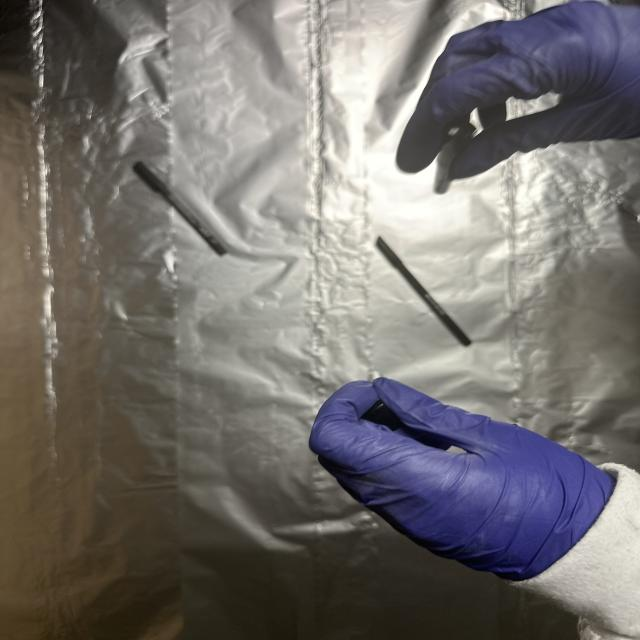gloves_contaminated: (310, 378, 615, 581), (396, 2, 640, 180)
